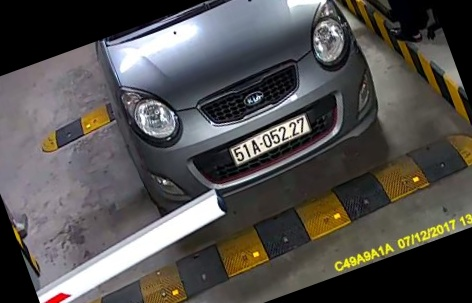plate: (229, 116, 314, 172)
